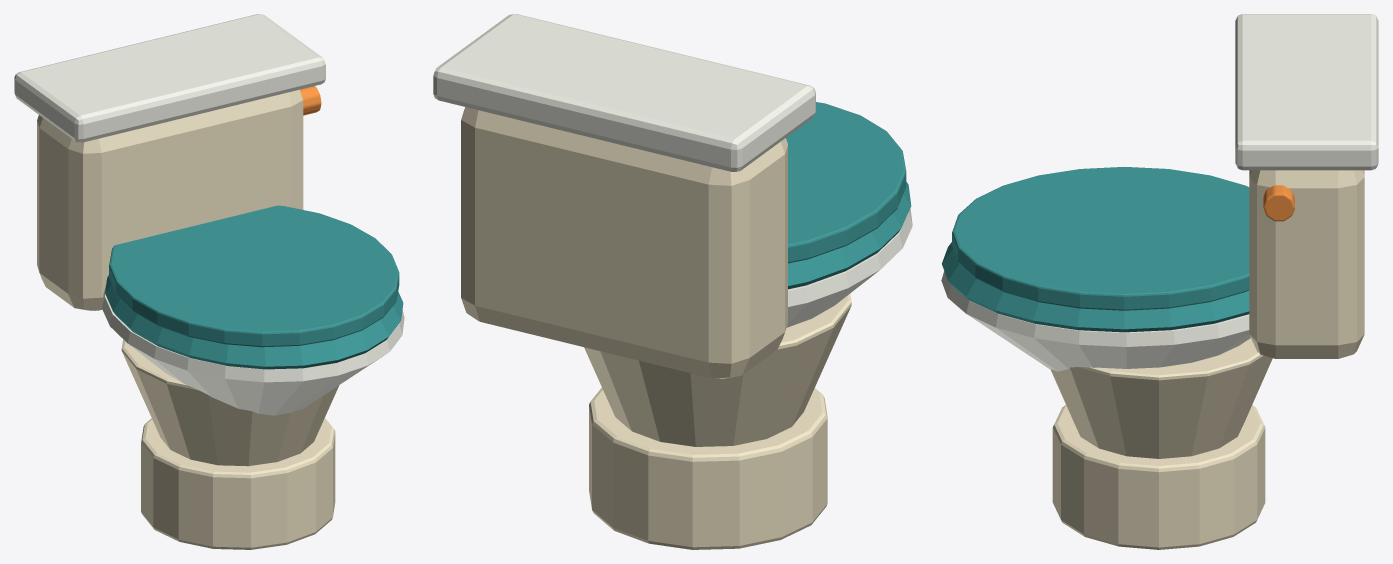
File: S042_cartoon_toilet.glb
The picture shows the model from 3 angles, left to right: view 1: azimuth 30°, elevation 25°; view 2: azimuth 150°, elevation 25°; view 3: azimuth 270°, elevation 25°; orthographic projection. The views are drawn at different scales.
Parts seen in each view (by area): view 1: cistern, seat_lid, cistern_lid, toilet_foot, toilet_neck, toilet_bowl, toilet_seat, flush_handle; view 2: cistern, cistern_lid, toilet_foot, toilet_neck, seat_lid, toilet_bowl, toilet_seat; view 3: seat_lid, cistern_lid, cistern, toilet_foot, toilet_neck, toilet_bowl, toilet_seat, flush_handle.
Boxes of the visible parts, x1,y1,x2,y2 form: cistern: (37,89,303,310); seat_lid: (109,205,399,347); cistern_lid: (14,14,325,142); toilet_foot: (141,418,335,549); toilet_neck: (121,339,339,466); toilet_bowl: (102,284,404,415); toilet_seat: (105,275,403,369); flush_handle: (300,86,321,115); cistern: (461,107,787,378); cistern_lid: (433,14,815,171); toilet_foot: (589,387,827,549); toilet_neck: (584,294,851,446); seat_lid: (786,102,906,263); toilet_bowl: (786,208,912,327); toilet_seat: (788,182,911,289); seat_lid: (952,167,1249,310); cistern_lid: (1235,14,1378,170); cistern: (1249,170,1364,358); toilet_foot: (1052,405,1265,549); toilet_neck: (1051,338,1272,458); toilet_bowl: (941,271,1250,371); toilet_seat: (942,242,1249,332); flush_handle: (1263,185,1294,221).
Bounding box in the file's own units: 0.6975 × 1.03 × 0.9462.
